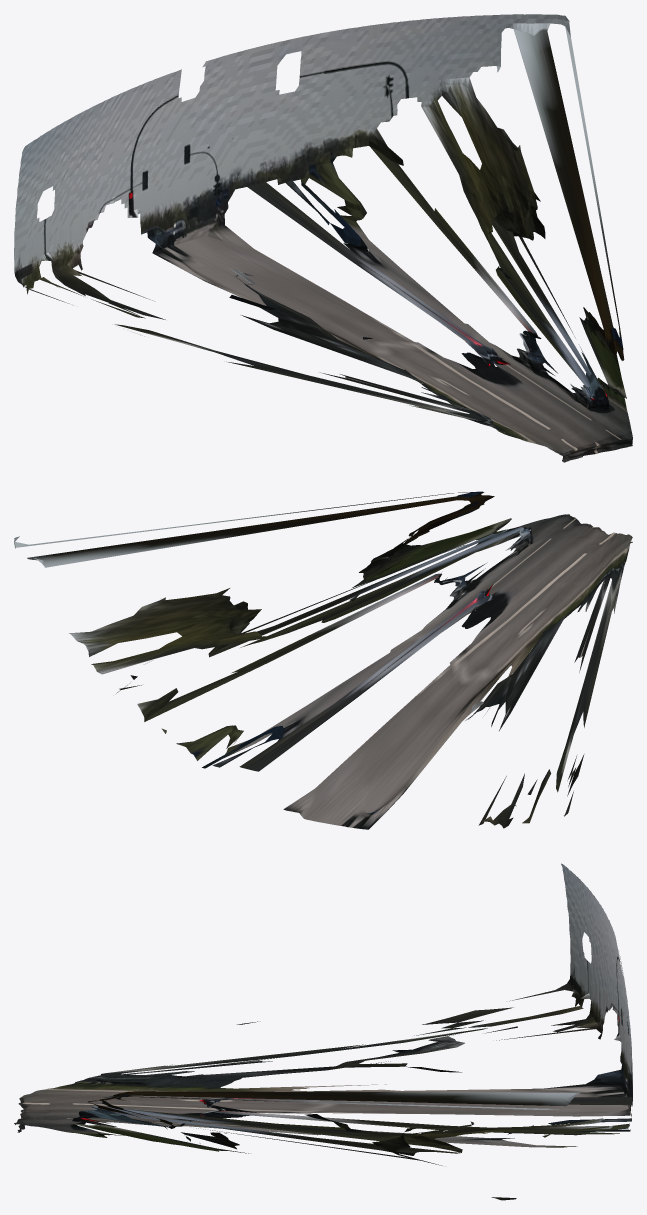
The picture shows the model from 3 angles, top to bottom: view 1: azimuth 30°, elevation 25°; view 2: azimuth 150°, elevation 25°; view 3: azimuth 270°, elevation 25°; orthographic projection. The views are drawn at different scales.
Visible parts, largest first — view 1: defaultobject; view 2: defaultobject; view 3: defaultobject.
Part boxes in pixels (bbox=[...]): defaultobject: bbox=[14, 14, 632, 462]; defaultobject: bbox=[14, 491, 632, 829]; defaultobject: bbox=[14, 863, 632, 1200].
Size of the model in its own units: 40.73 by 12.96 by 44.41.
1 material, 1 textured.
